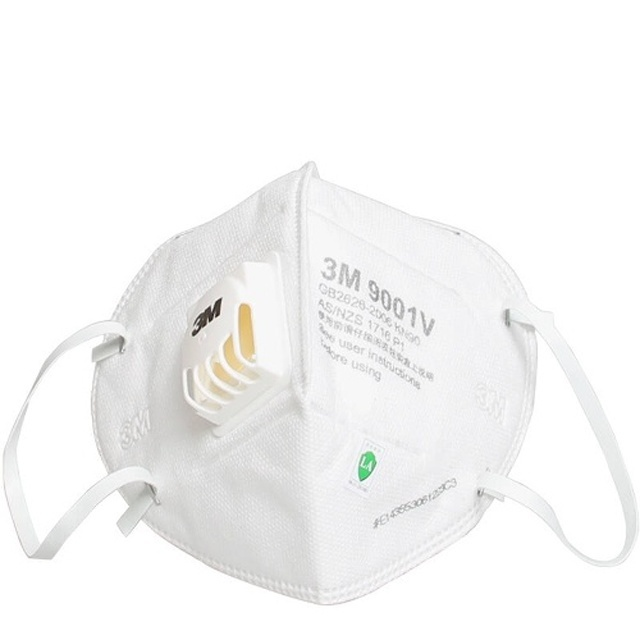mask: (6, 153, 640, 610)
